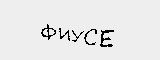Е: (100, 26, 115, 47)
И: (57, 26, 70, 43)
С: (83, 24, 99, 48)
У: (69, 27, 83, 42)
Ф: (39, 21, 57, 43)
